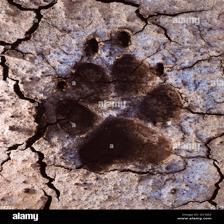wolf: (28, 29, 188, 181)
